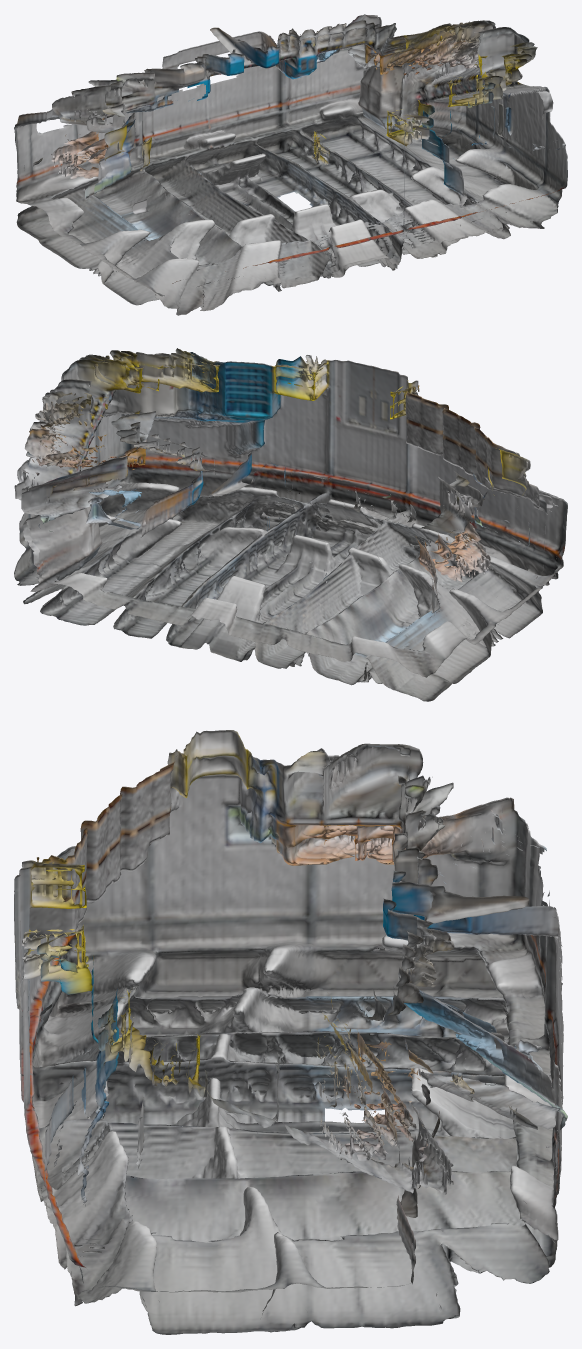
Rendered from collider.glb.
3 renders of one model, top to bottom at view 1: azimuth 30°, elevation 25°; view 2: azimuth 150°, elevation 25°; view 3: azimuth 270°, elevation 25°, orthographic. The views are drawn at different scales.
Visible parts, largest first — view 1: world; view 2: world; view 3: world.
Boxes of the visible parts, <box> form: world: <box>14,14,567,315</box>; world: <box>14,348,567,701</box>; world: <box>14,730,567,1334</box>.
Size of the model in its own units: 9.48 by 3.45 by 6.33.
